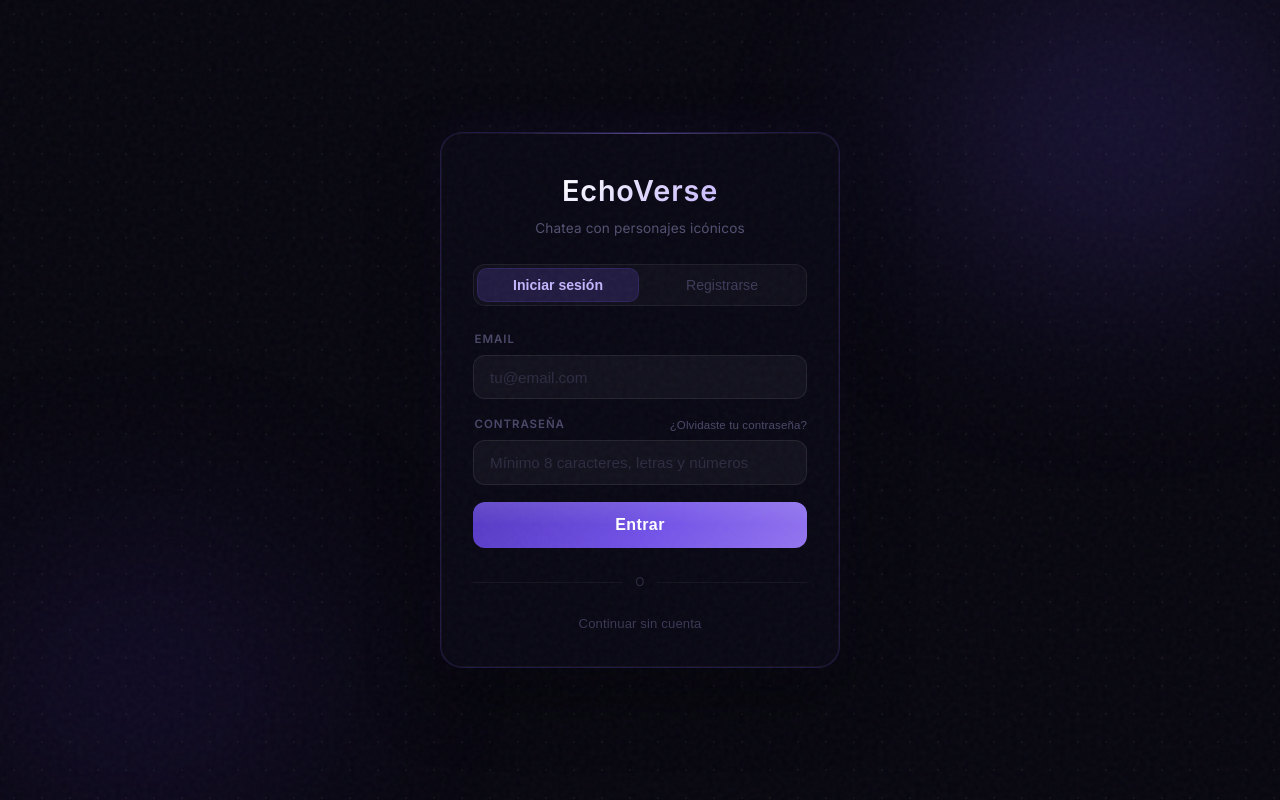
it: AuthPage — manejo de errores › muestra el mensaje de error cuando login falla
Type "user@test.com" into the field with placeholder "tu@email.com" at (640, 377), box [473, 355, 807, 399]
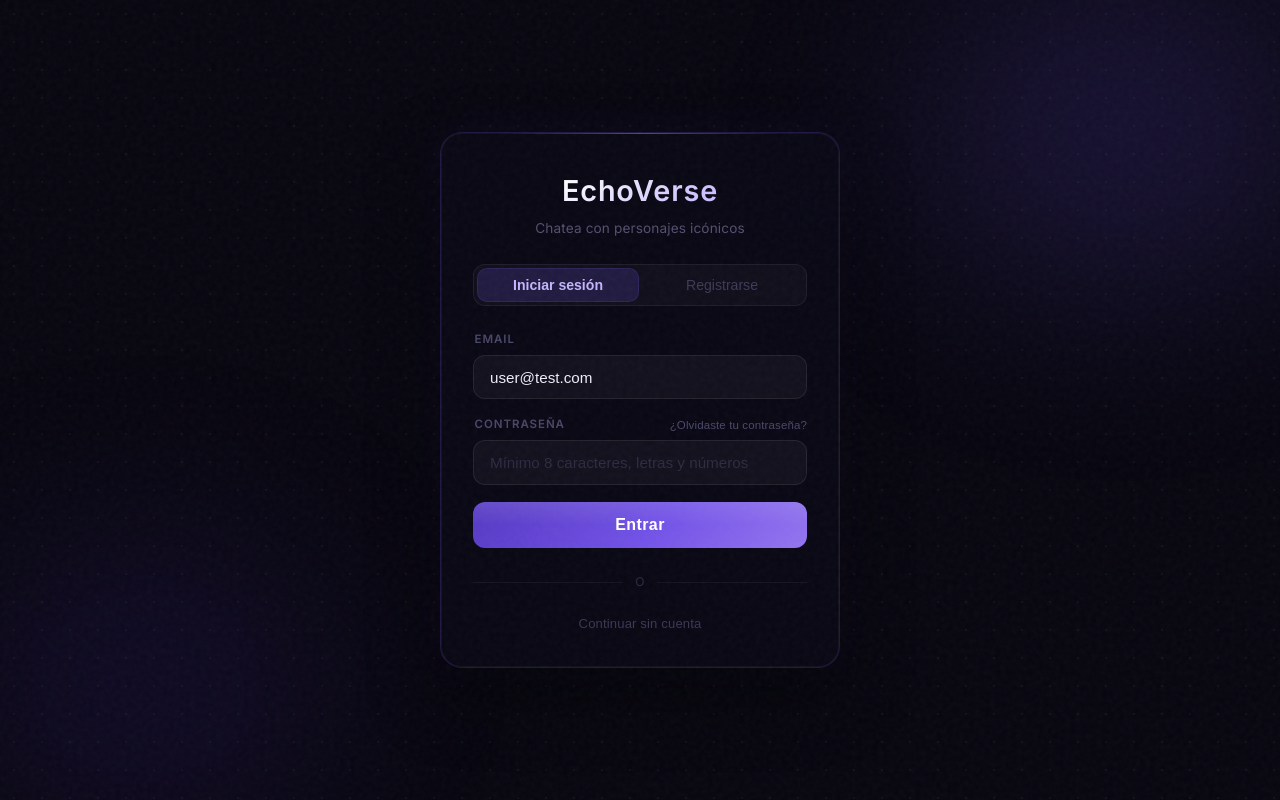
Type "badpass" into the password field with placeholder "Mínimo 8 caracteres, letras y números" at (640, 462), box [473, 440, 807, 485]
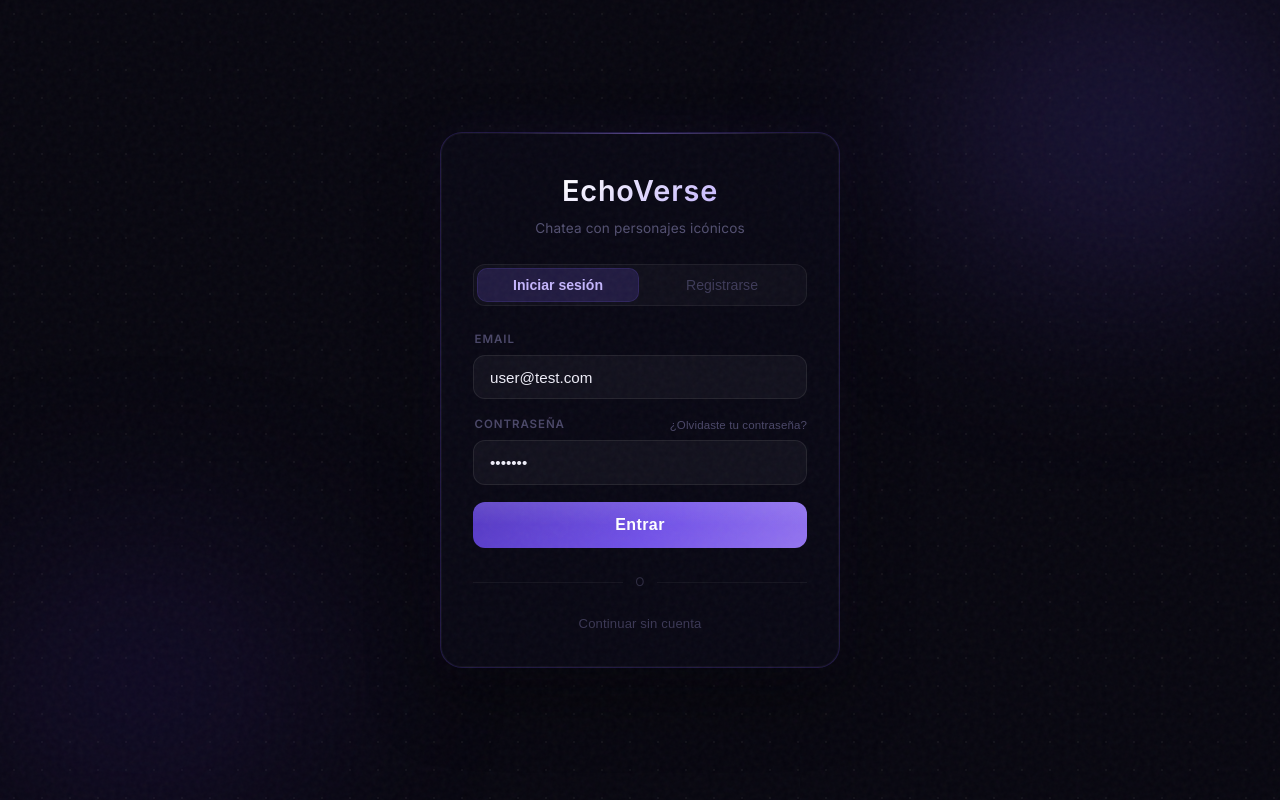
Submit the form "Entrar", box [473, 330, 807, 548]
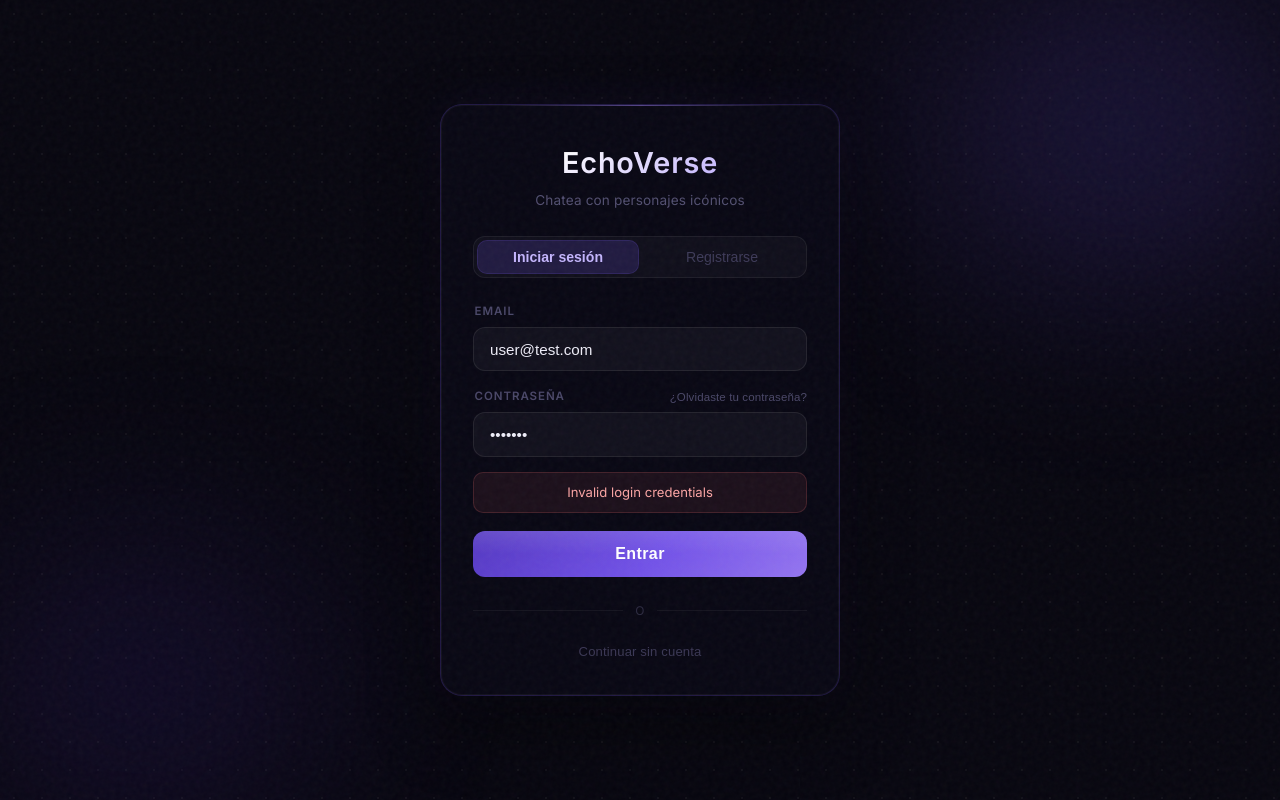
expect the text "Invalid login credentials" is shown: met, box [473, 472, 807, 513]
